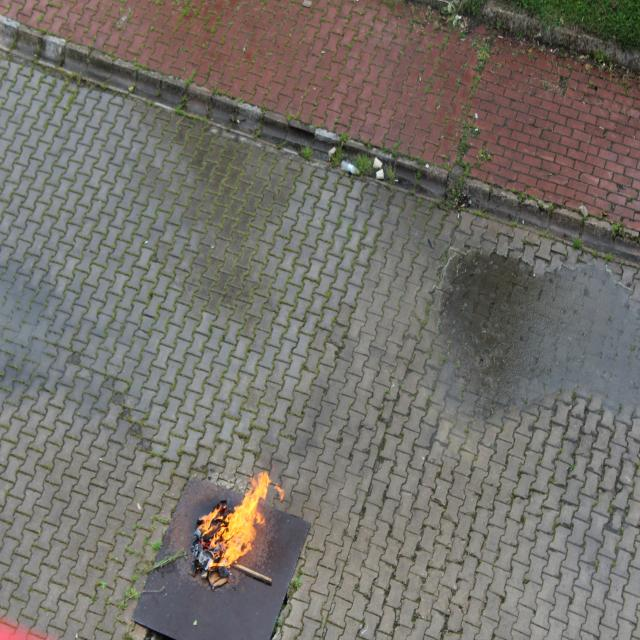fire: (194, 456, 284, 580)
